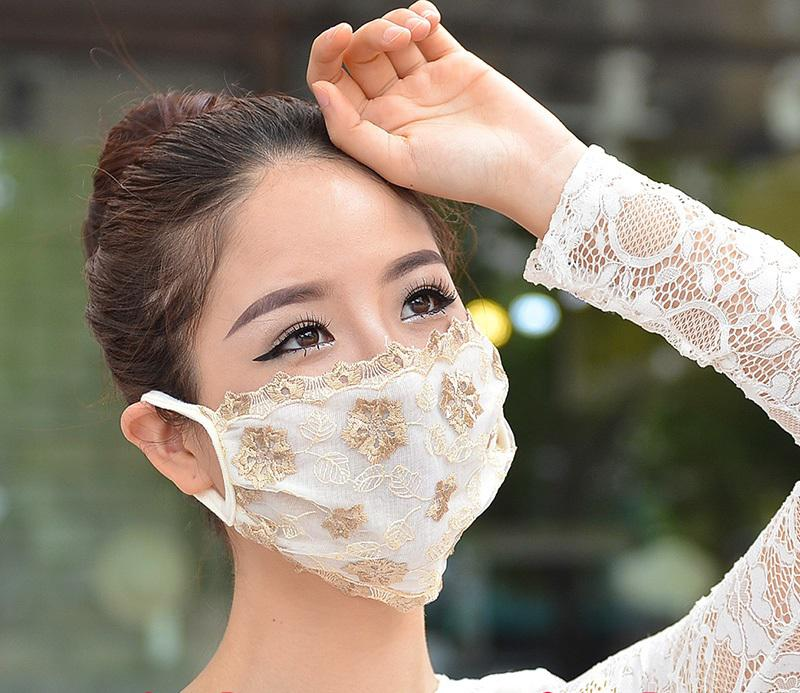OK: (188, 233, 524, 602)
